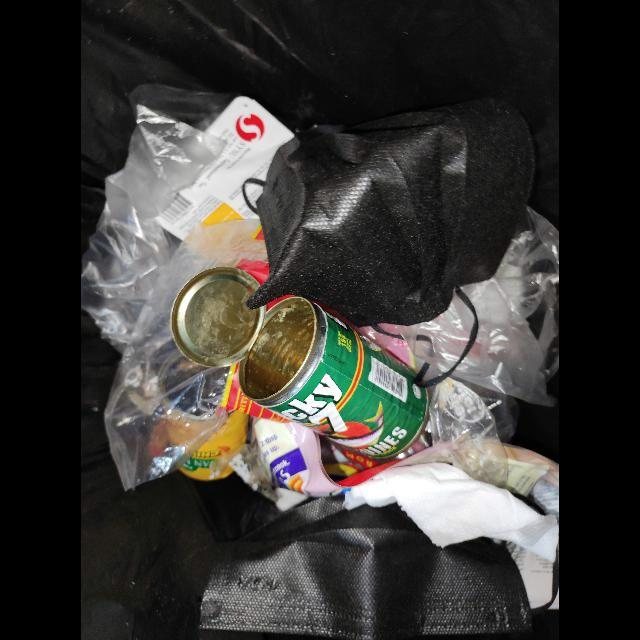aluminum: (170, 267, 429, 459), (179, 411, 249, 482)
food_wrapper: (221, 361, 429, 498), (157, 96, 295, 242), (505, 445, 560, 517)
paper: (345, 463, 560, 610)
plastic_bag: (83, 106, 269, 493), (363, 207, 560, 408)
